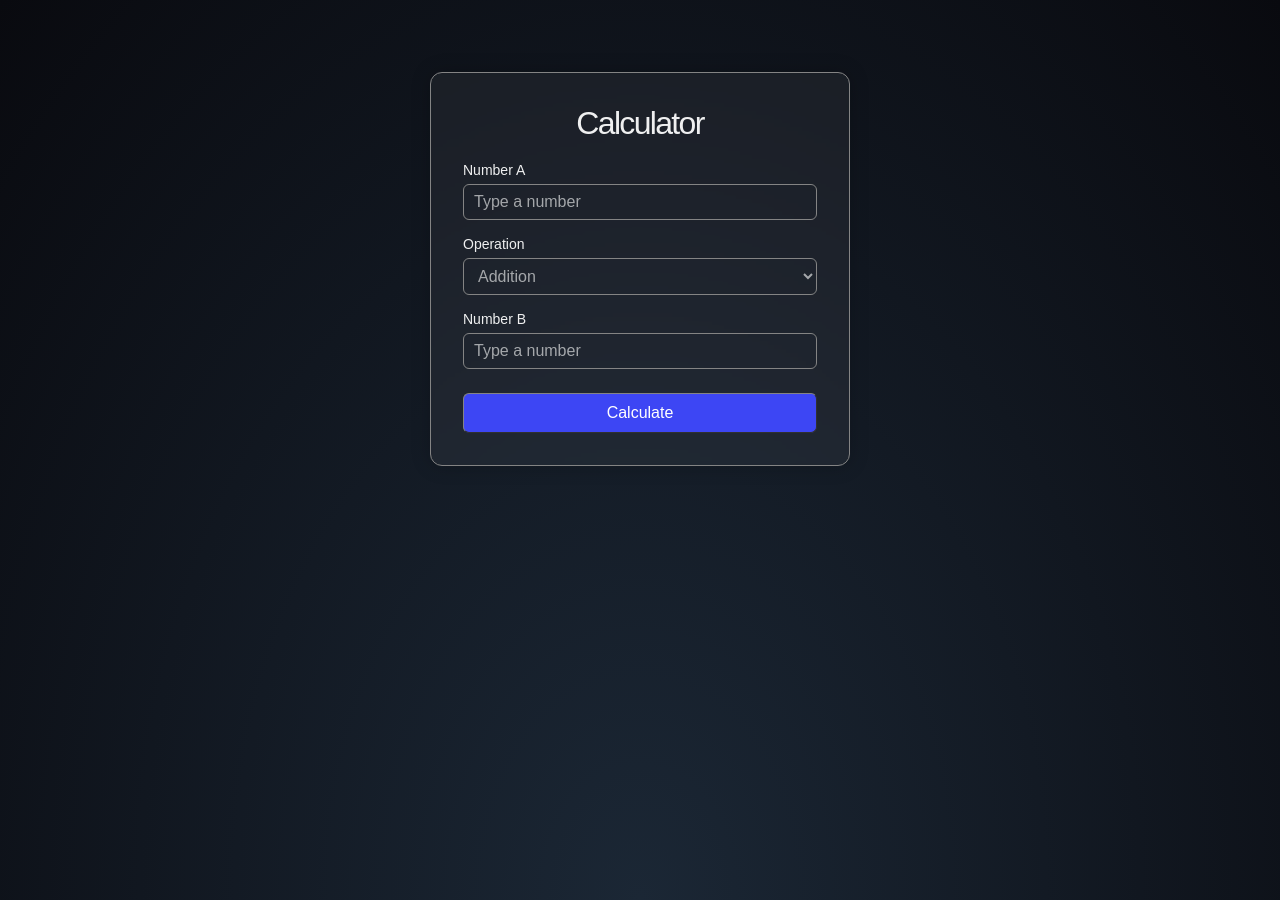
Test: Calculator component › shows the error message returned by the API
Type "10" into the number field labelled "Number A".
click(640, 202); type("10")  # box [463,184,817,220]
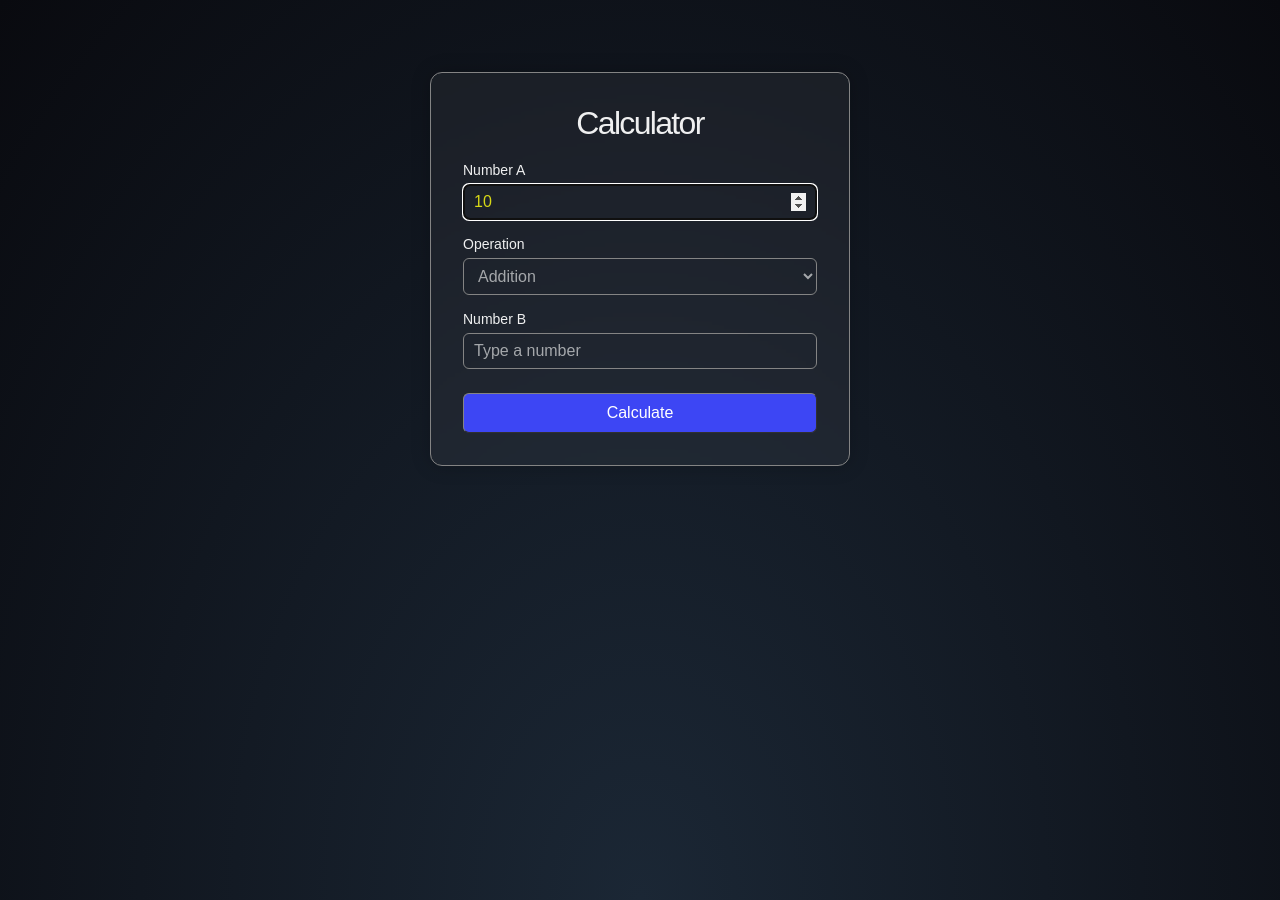
Type "0" into the number field labelled "Number B".
click(640, 351); type("0")  # box [463,333,817,369]
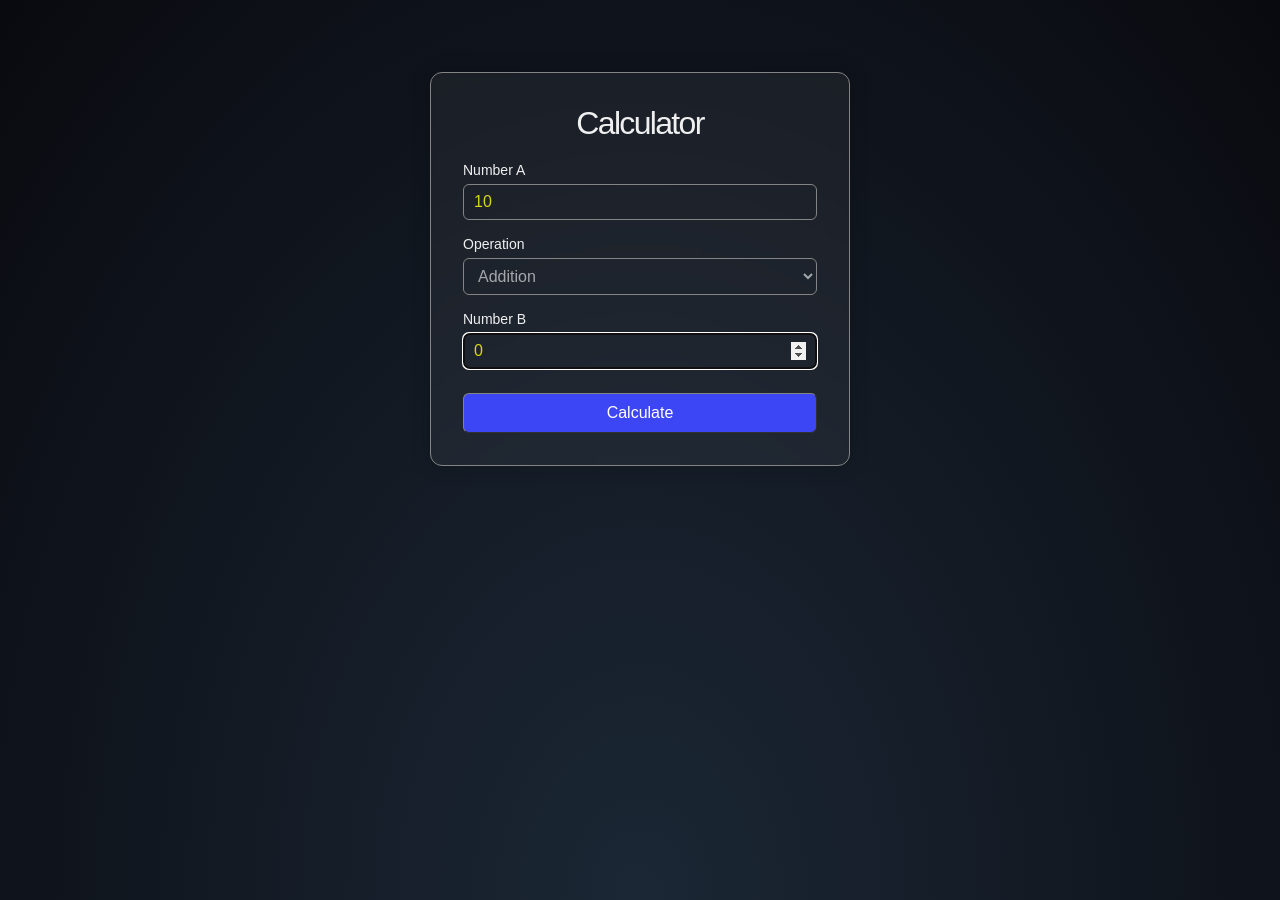
Select "Division" in the dropdown labelled "Operation" at x=640, y=276, box [463,258,817,295]
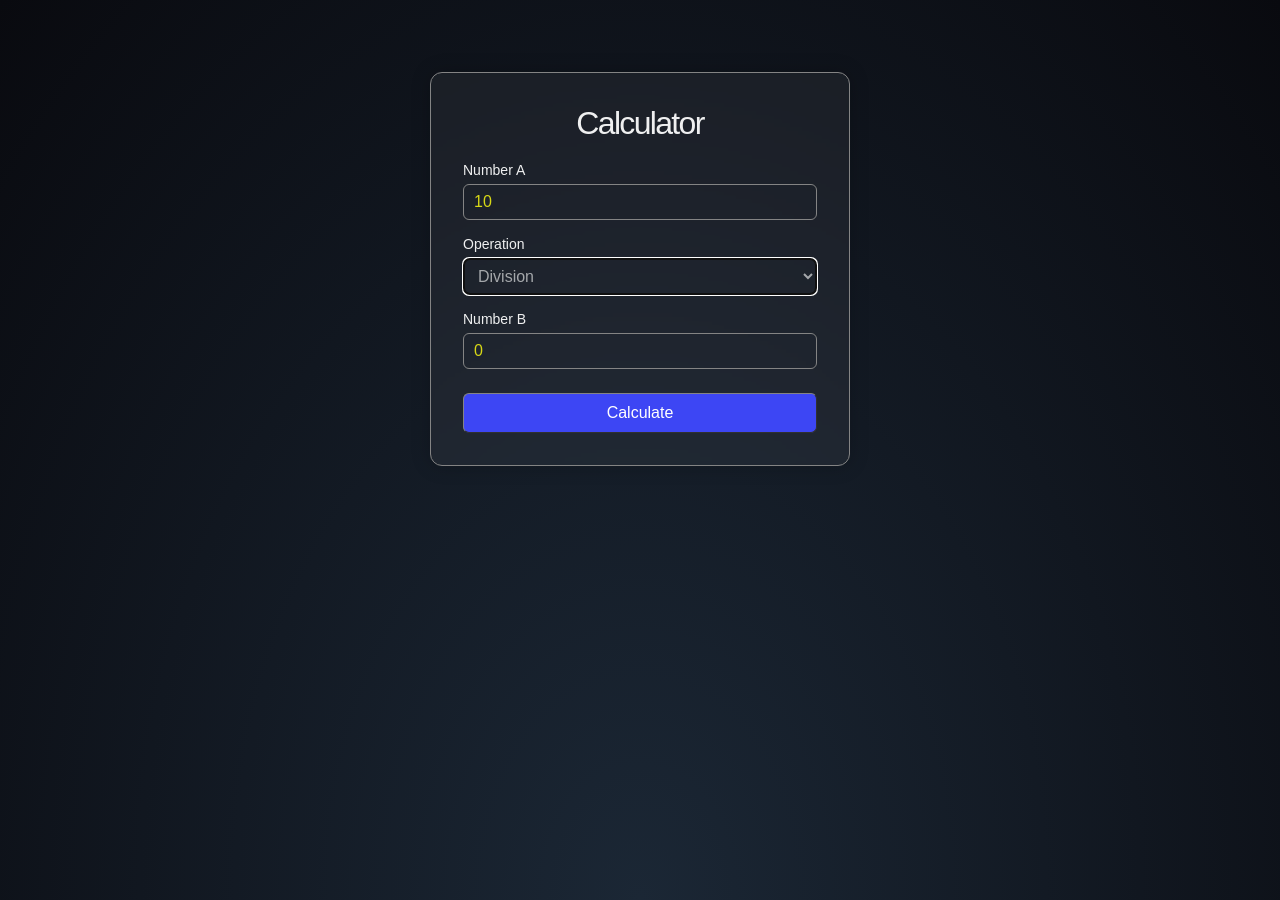
Click the button "Calculate".
click(640, 413)  # box [463,393,817,433]
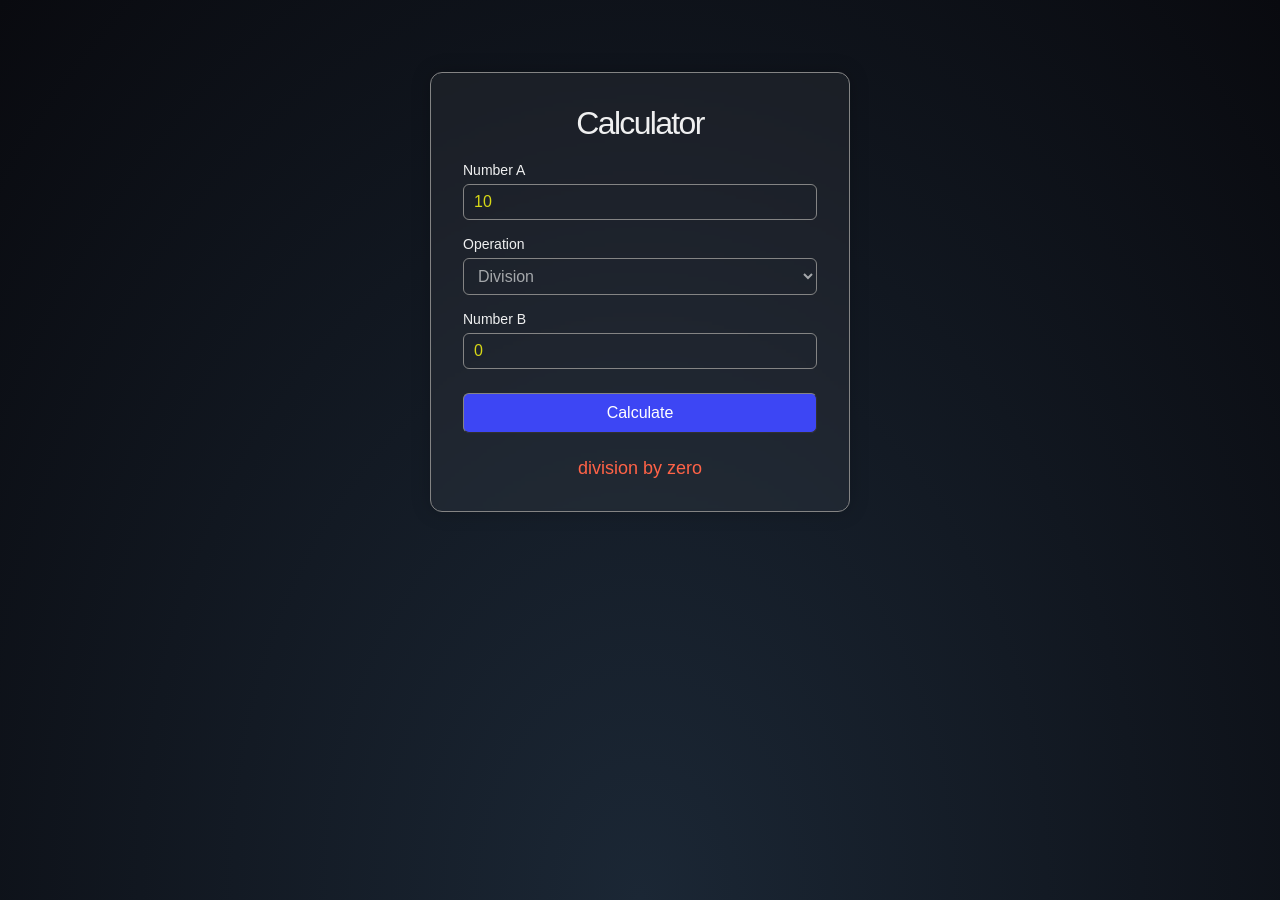
Expected: the text "division by zero" is shown, [578,458,702,478]
